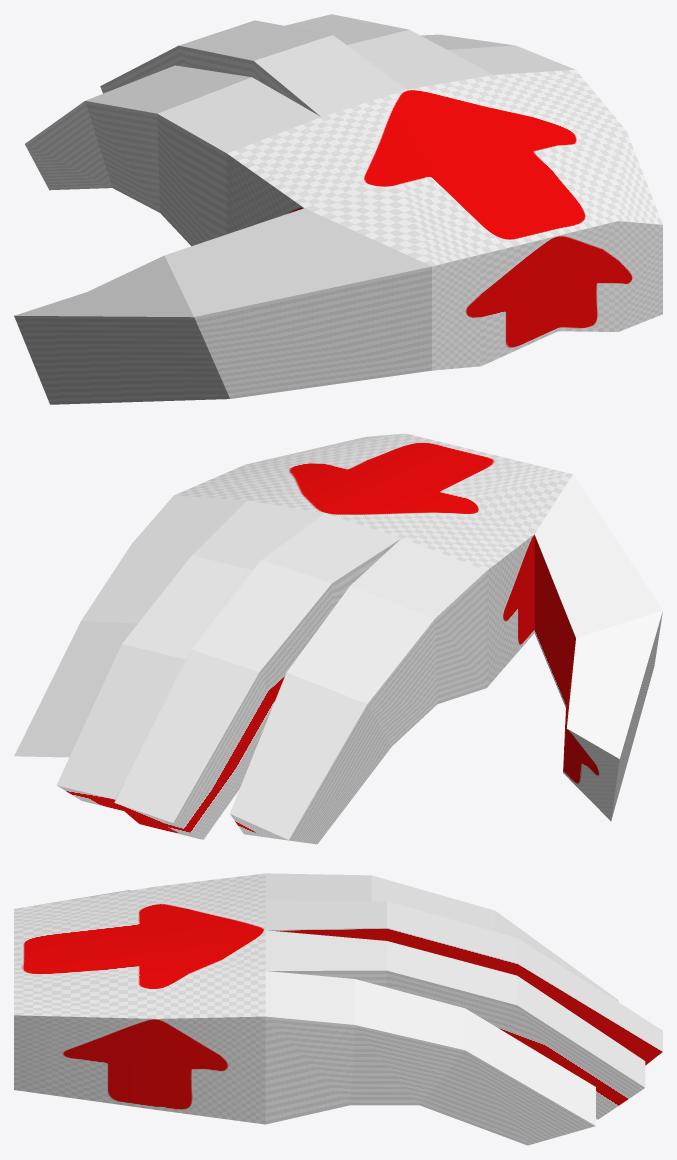
File: test_hand2.FBX
3 renders of one model, top to bottom at view 1: azimuth 30°, elevation 25°; view 2: azimuth 150°, elevation 25°; view 3: azimuth 270°, elevation 25°, orthographic. The views are drawn at different scales.
Parts seen in each view (by area): view 1: Box001; view 2: Box001; view 3: Box001.
Boxes of the visible parts, x1=… form: Box001: x1=14, y1=14, x2=662, y2=404; Box001: x1=14, y1=433, x2=662, y2=844; Box001: x1=14, y1=873, x2=662, y2=1145.
Bounding box in the file's own units: 0.2238 × 0.1004 × 0.2845.
Materials: 1 (1 with a texture image).
